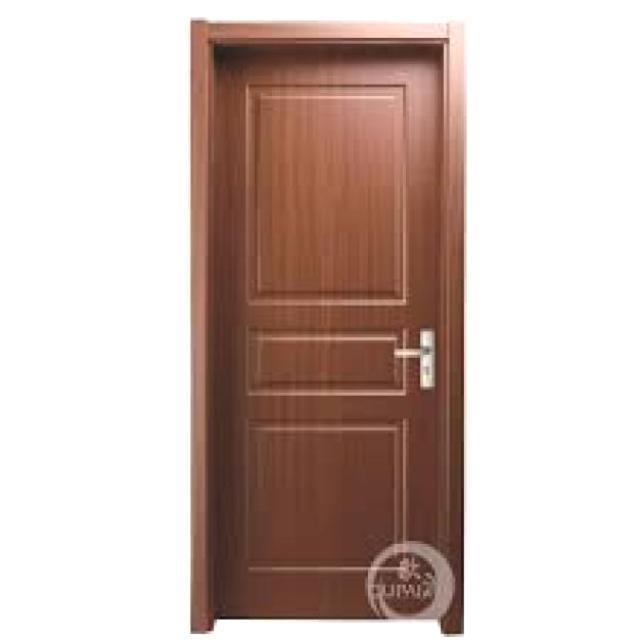door: (190, 19, 465, 633)
